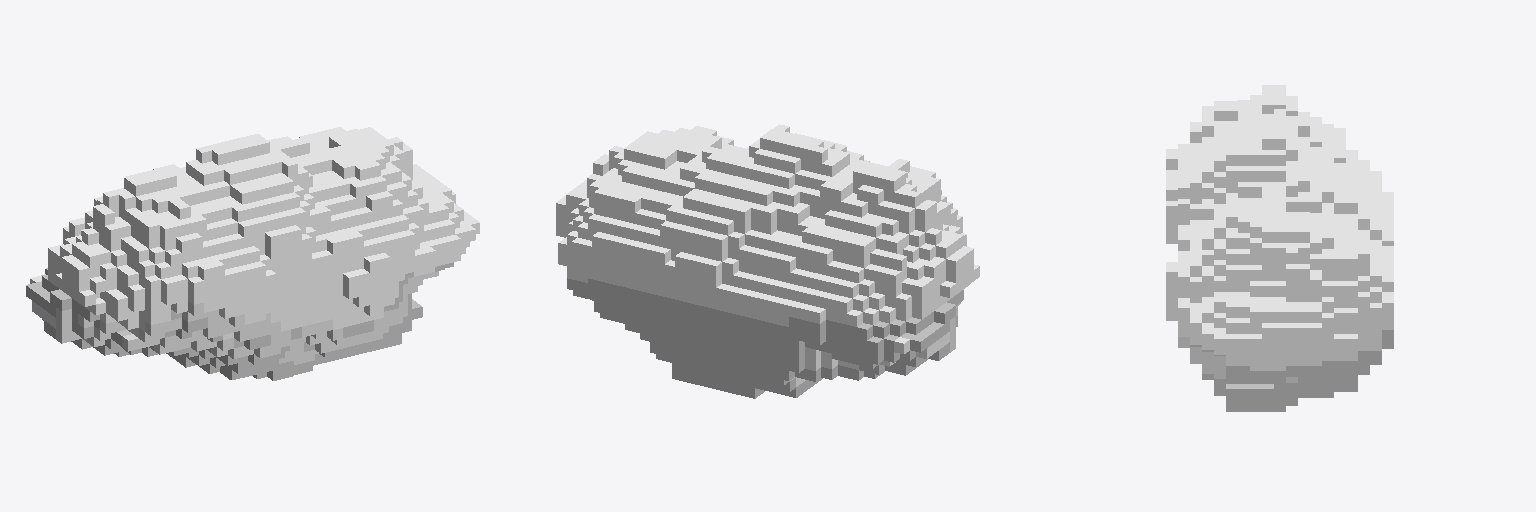
3 views of the same model, side by side, from view 1: azimuth 30°, elevation 25°; view 2: azimuth 150°, elevation 25°; view 3: azimuth 270°, elevation 25° (orthographic).
Size of the model in its own units: 37 by 22 by 19.
Materials: 1 (1 with a texture image).